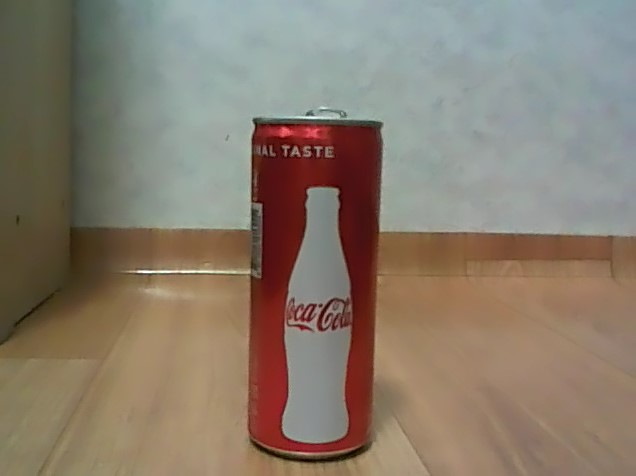Can: (239, 99, 389, 466)
